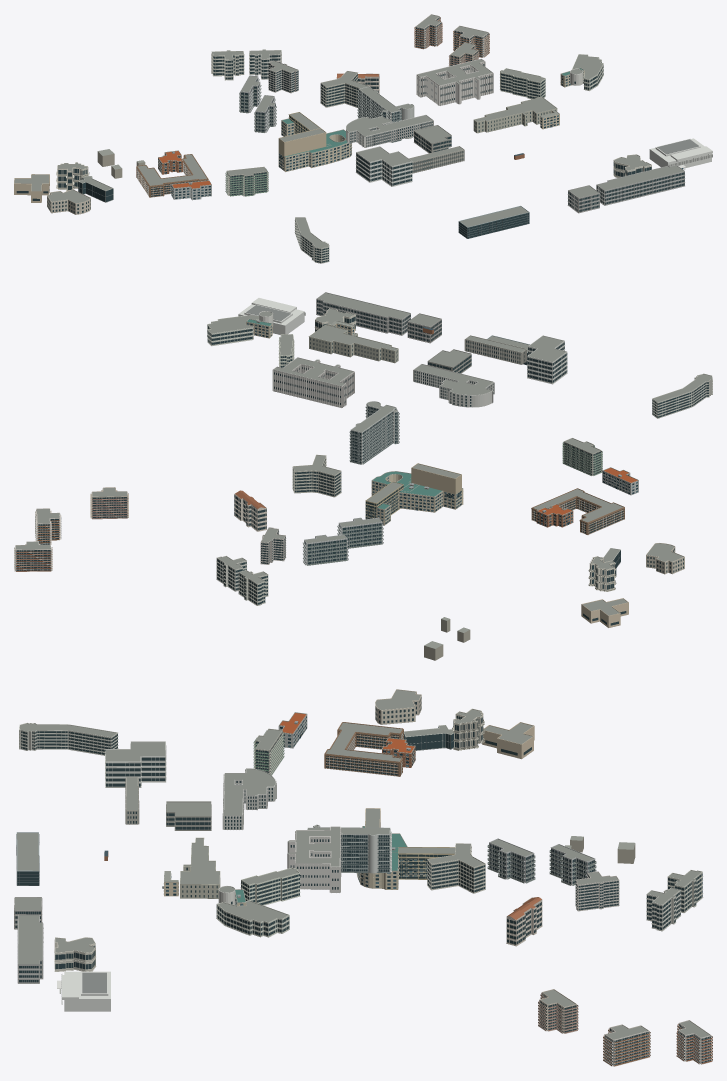
File: zone_1_1-high.glb
The picture shows the model from 3 angles, top to bottom: view 1: azimuth 30°, elevation 25°; view 2: azimuth 150°, elevation 25°; view 3: azimuth 270°, elevation 25°; orthographic projection. The views are drawn at different scales.
Visible parts, largest first — view 1: web_building_2325105, web_building_107139024, web_building_3086286, web_building_10266054, web_building_1344748884, web_building_135193913, web_building_191713160, web_building_194547401, web_building_107139030, web_building_135193165, web_building_135193917, web_building_135315191 (+22 smaller); view 2: web_building_2325105, web_building_10266054, web_building_135193165, web_building_3086286, web_building_107139024, web_building_135193913, web_building_194547401, web_building_1344748884, web_building_135193917, web_building_135265381, web_building_135264069, web_building_107139030 (+20 smaller); view 3: web_building_194547401, web_building_2325105, web_building_135265381, web_building_1344748884, web_building_135193165, web_building_3086286, web_building_135193917, web_building_107139030, web_building_135904891, web_building_107139024, web_building_135193913, web_building_135265382 (+23 smaller).
Boxes of the visible parts, <box> form: web_building_2325105: <box>416,58,493,105</box>; web_building_107139024: <box>596,165,685,205</box>; web_building_3086286: <box>346,114,433,147</box>; web_building_10266054: <box>278,118,352,171</box>; web_building_1344748884: <box>356,146,412,186</box>; web_building_135193913: <box>473,97,557,133</box>; web_building_191713160: <box>458,205,529,238</box>; web_building_194547401: <box>136,154,208,197</box>; web_building_107139030: <box>649,138,712,169</box>; web_building_135193165: <box>357,86,414,142</box>; web_building_135193917: <box>320,71,368,108</box>; web_building_135315191: <box>225,166,268,196</box>; web_building_2325105: <box>272,357,354,407</box>; web_building_10266054: <box>366,471,463,525</box>; web_building_135193165: <box>349,401,399,464</box>; web_building_3086286: <box>413,364,494,407</box>; web_building_107139024: <box>316,292,410,335</box>; web_building_135193913: <box>308,324,398,363</box>; web_building_194547401: <box>531,488,624,534</box>; web_building_1344748884: <box>527,335,567,384</box>; web_building_135193917: <box>292,454,341,497</box>; web_building_135265381: <box>652,373,712,418</box>; web_building_135264069: <box>302,534,348,565</box>; web_building_107139030: <box>238,298,305,334</box>; web_building_194547401: <box>324,722,403,776</box>; web_building_2325105: <box>287,826,341,892</box>; web_building_135265381: <box>19,722,118,755</box>; web_building_1344748884: <box>105,741,166,787</box>; web_building_135193165: <box>307,824,391,873</box>; web_building_3086286: <box>222,768,276,829</box>; web_building_135193917: <box>427,843,485,893</box>; web_building_107139030: <box>57,971,110,1011</box>; web_building_135904891: <box>216,900,289,937</box>; web_building_107139024: <box>17,914,43,983</box>; web_building_135193913: <box>180,837,220,898</box>; web_building_135265382: <box>603,1024,650,1066</box>.
Size of the model in its own units: 622 by 146 by 556.
